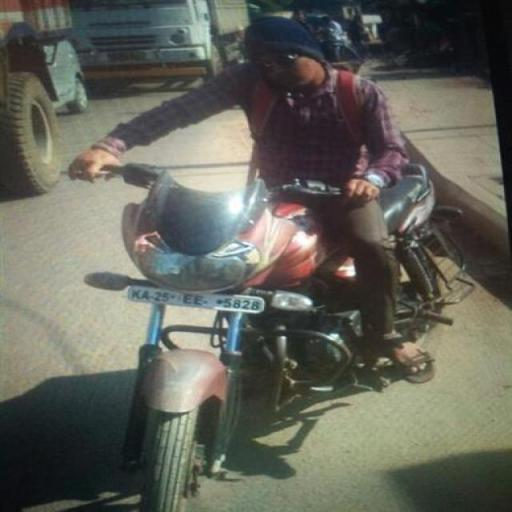numberplate: (124, 275, 274, 328)
using mobile: (235, 49, 275, 102), (197, 286, 204, 290)
